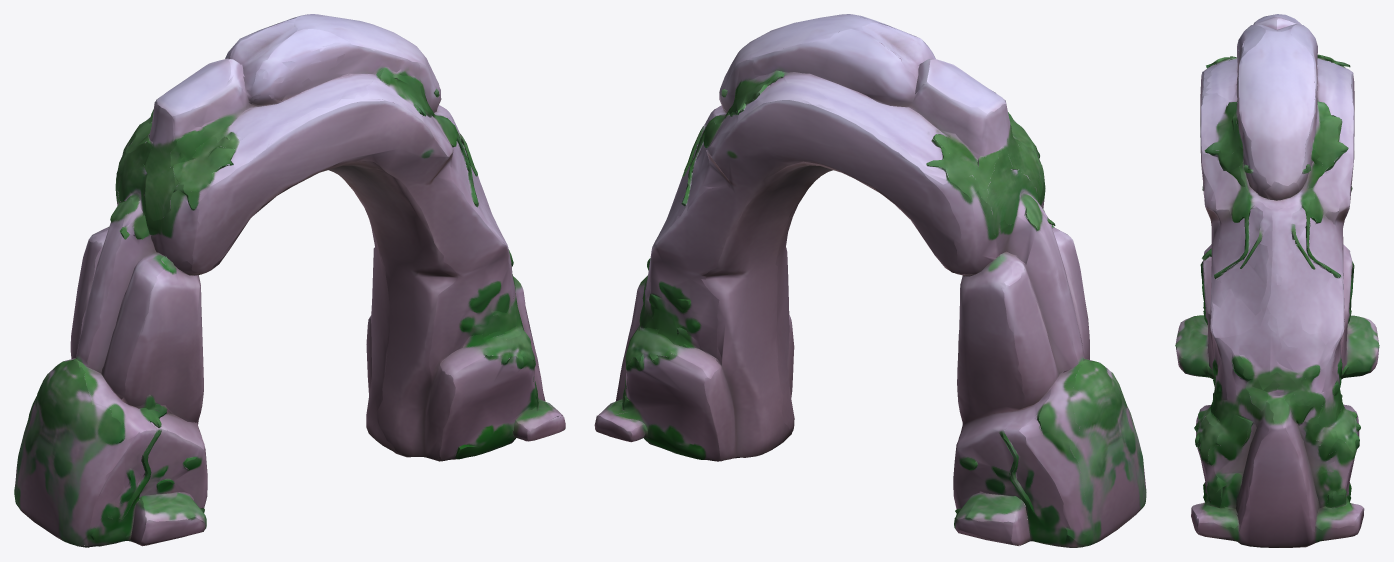
Rendered from peach-cave-lod.glb.
3 views of the same model, side by side, from view 1: azimuth 30°, elevation 25°; view 2: azimuth 150°, elevation 25°; view 3: azimuth 270°, elevation 25° (orthographic). The views are drawn at different scales.
Visible parts, largest first — view 1: world; view 2: world; view 3: world.
Boxes of the visible parts, left/top/right/bottom form: world: left=14, top=14, right=565, bottom=547; world: left=594, top=14, right=1146, bottom=547; world: left=1175, top=14, right=1379, bottom=547.
Bounding box in the file's own units: 28.01 × 23.88 × 10.79.
Materials: 1 (1 with a texture image).
